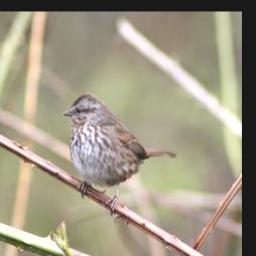Sparrow: (59, 90, 180, 217)
